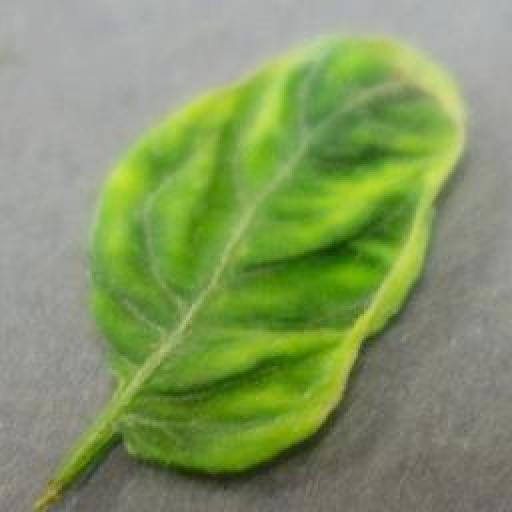disease_tomato: (90, 30, 470, 478)
